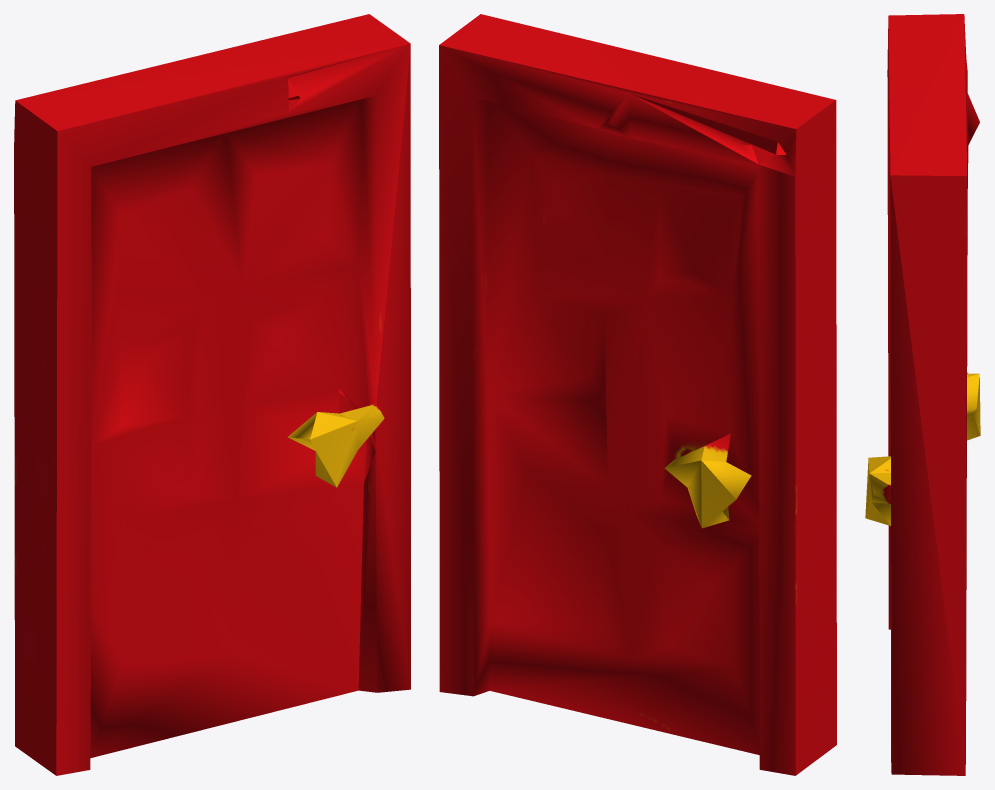
Rendered from red-front-door.glb.
The picture shows the model from 3 angles, left to right: view 1: azimuth 30°, elevation 25°; view 2: azimuth 150°, elevation 25°; view 3: azimuth 270°, elevation 25°; orthographic projection. The views are drawn at different scales.
Parts seen in each view (by area): view 1: geometry_0.001; view 2: geometry_0.001; view 3: geometry_0.001.
Part boxes in pixels (left/top/right/bottom): geometry_0.001: left=14, top=14, right=410, bottom=775; geometry_0.001: left=439, top=14, right=836, bottom=775; geometry_0.001: left=865, top=14, right=980, bottom=775.
Size of the model in its own units: 0.5731 by 0.9971 by 0.1733.
Materials: 1 (1 with a texture image).
